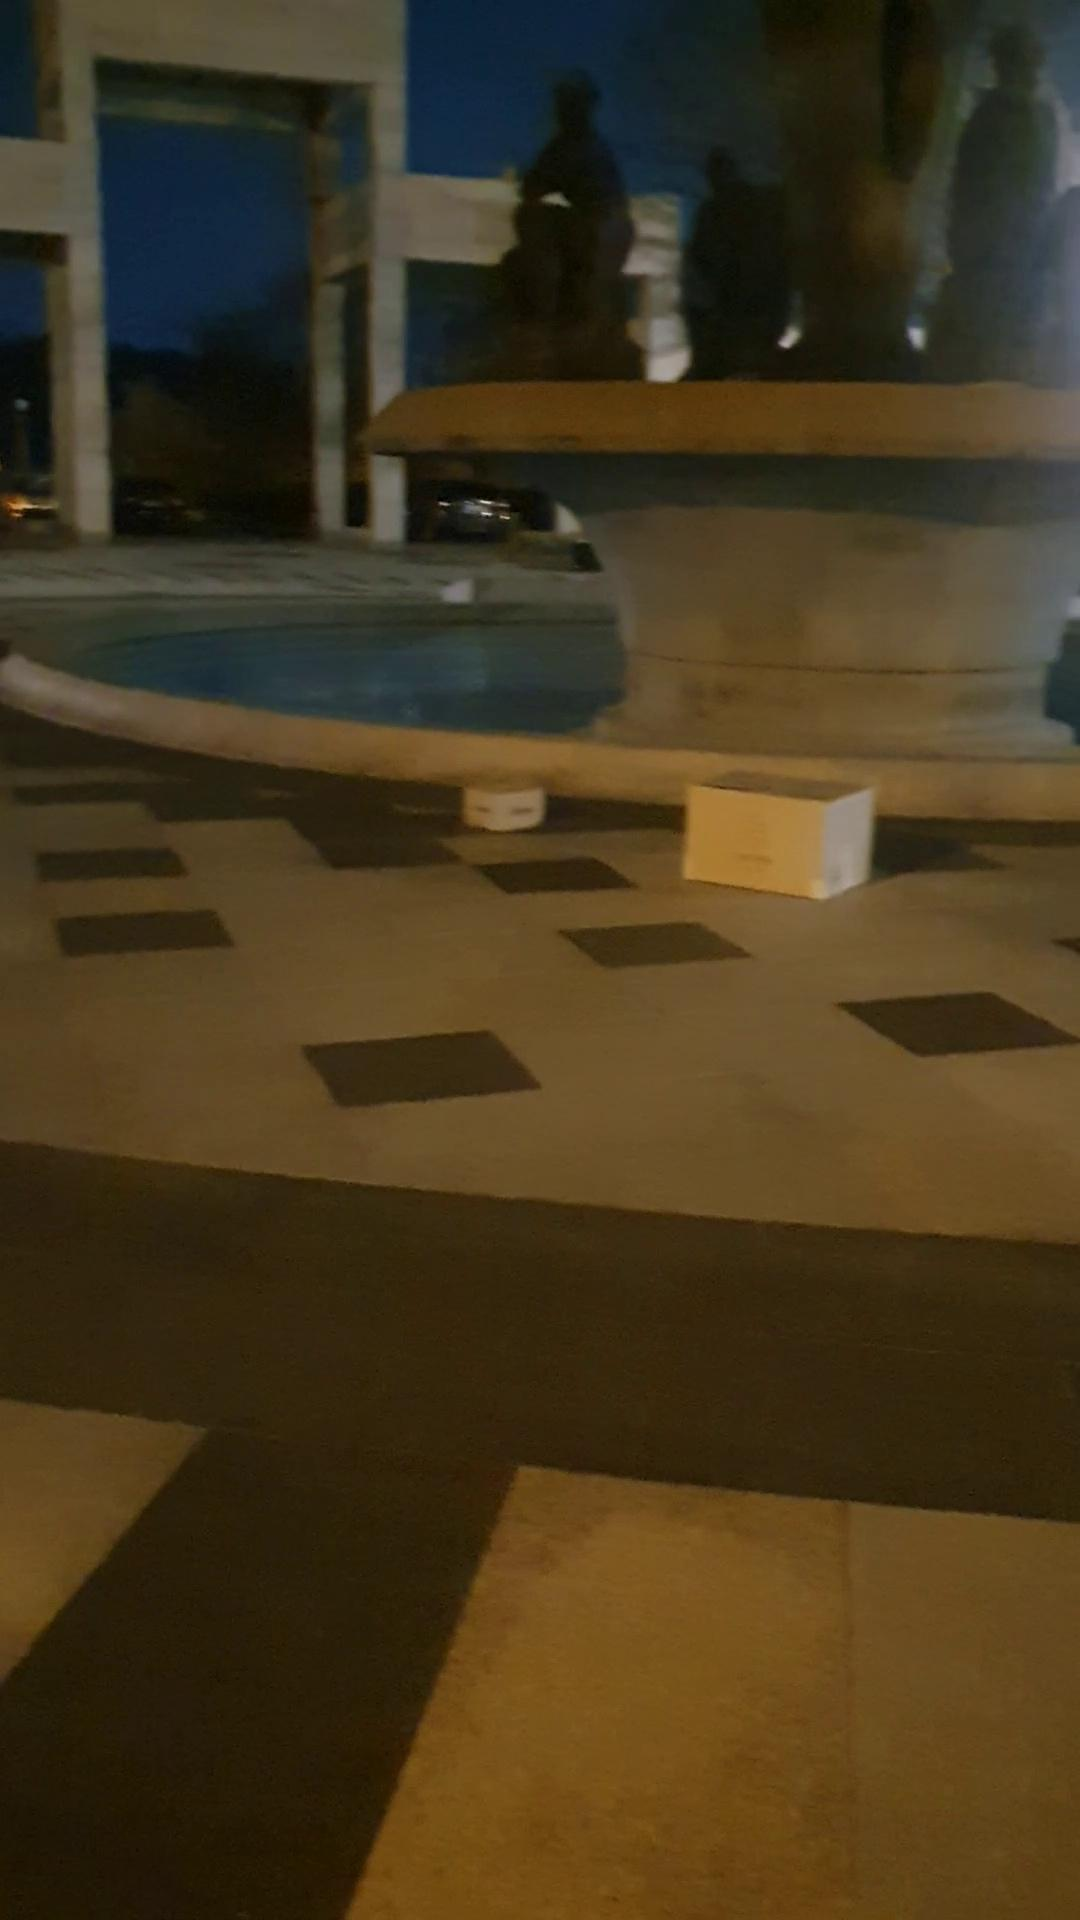Box: (673, 767, 887, 909), (451, 767, 555, 840)
